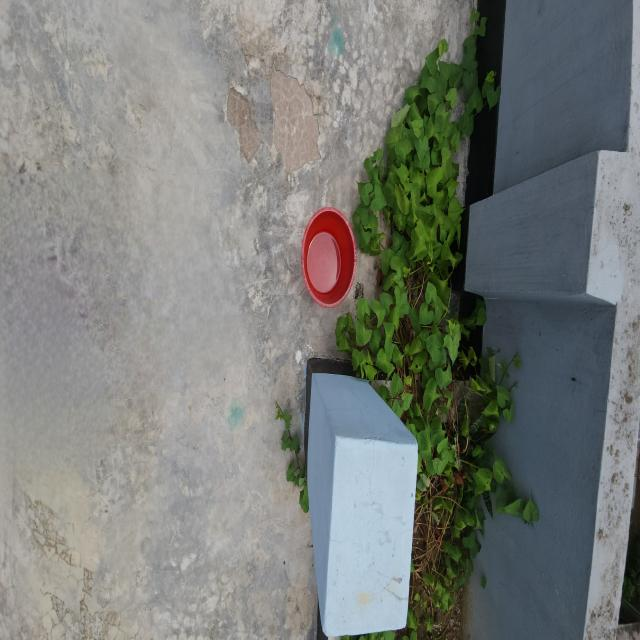Breeding Place: (336, 41, 493, 640), (298, 200, 360, 316)
